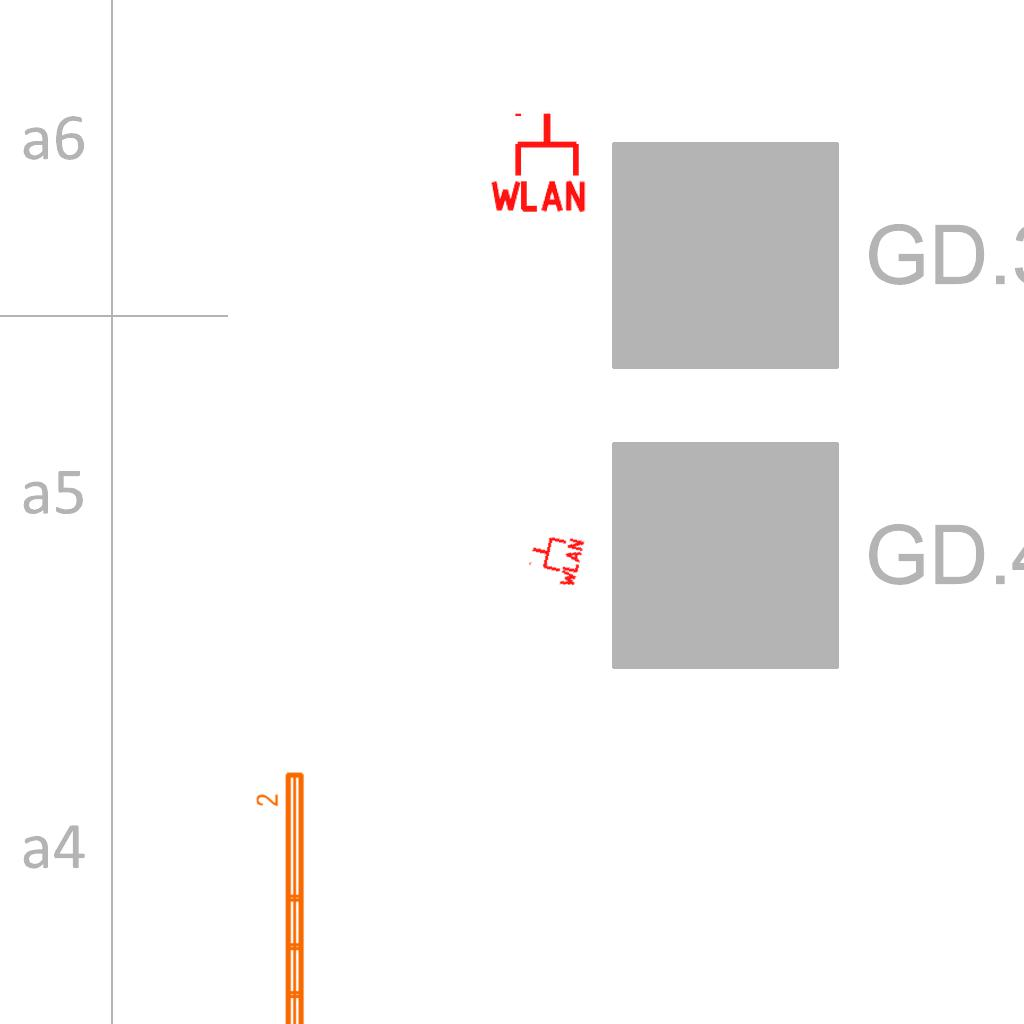Ambulanz_Pendelleuchte_LED: (254, 768, 310, 1024)
WLAN: (486, 109, 590, 214), (523, 527, 587, 591)
